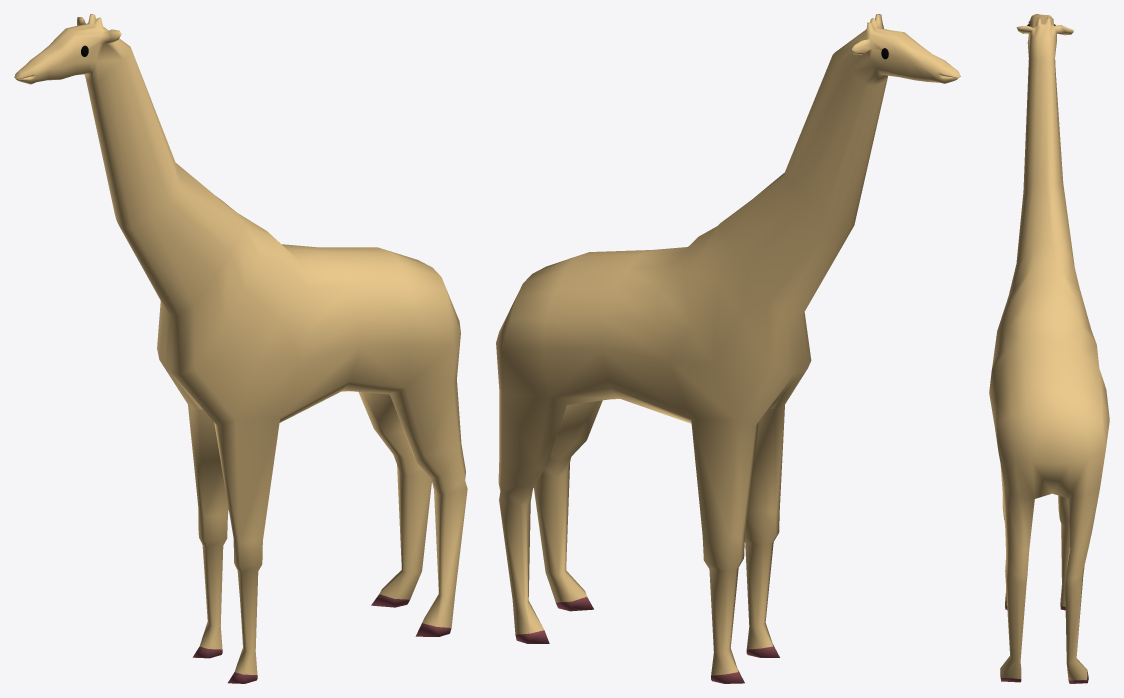
File: Giraffe.fbx
3 renders of one model, left to right at view 1: azimuth 30°, elevation 25°; view 2: azimuth 150°, elevation 25°; view 3: azimuth 270°, elevation 25°, orthographic. The views are drawn at different scales.
Visible parts, largest first — view 1: Giraffe; view 2: Giraffe; view 3: Giraffe.
Boxes of the visible parts, x1,y1,x2,y2 form: Giraffe: (14, 14, 467, 683); Giraffe: (496, 14, 960, 683); Giraffe: (989, 14, 1109, 683).
Bounding box in the file's own units: 512 × 752 × 153.
